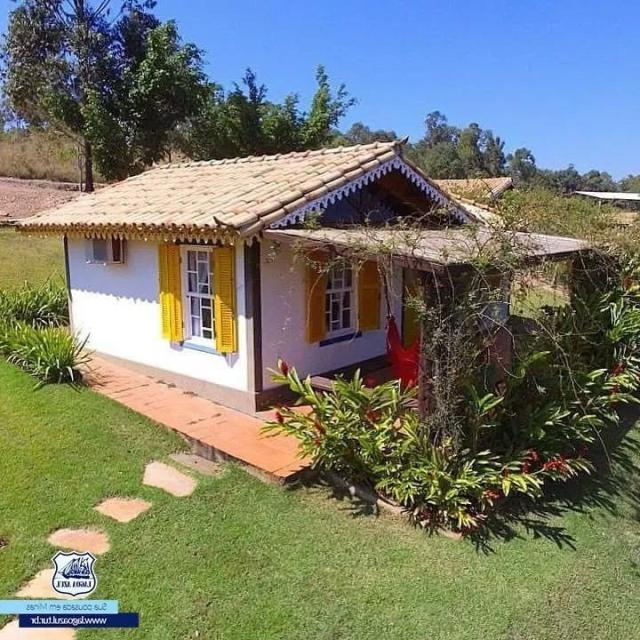Fachada: (20, 140, 592, 412)
